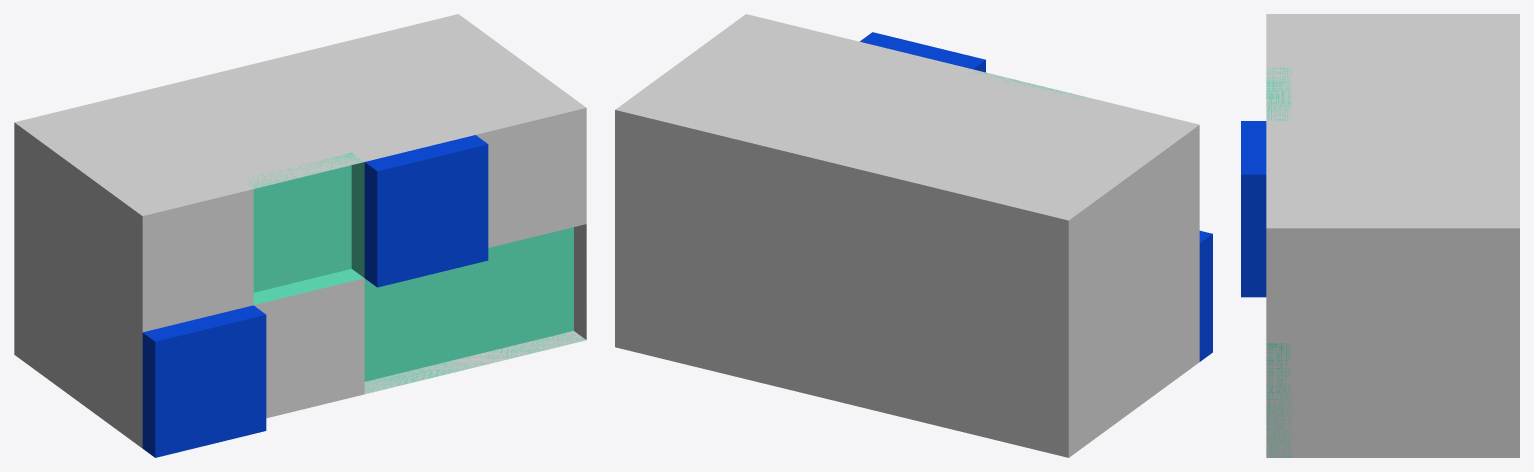
Rendered from Wall1_2x1.fbx.
The picture shows the model from 3 angles, left to right: view 1: azimuth 30°, elevation 25°; view 2: azimuth 150°, elevation 25°; view 3: azimuth 270°, elevation 25°; orthographic projection. The views are drawn at different scales.
Visible parts, largest first — view 1: Wall 2x1; view 2: Wall 2x1; view 3: Wall 2x1.
Boxes of the visible parts, x1,y1,x2,y2 form: Wall 2x1: (14, 14, 586, 457); Wall 2x1: (615, 14, 1212, 457); Wall 2x1: (1241, 14, 1519, 457).
Bounding box in the file's own units: 200 × 100 × 110.
